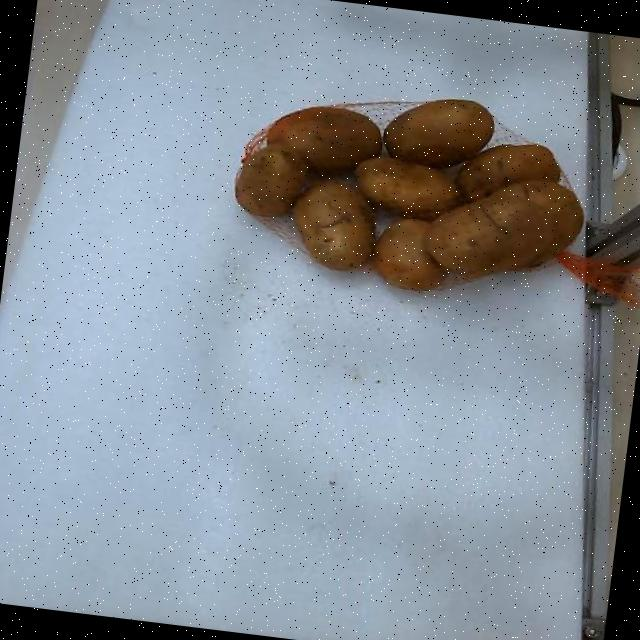potato: (426, 179, 582, 275), (266, 105, 382, 171), (383, 99, 493, 166), (294, 181, 374, 269), (356, 155, 460, 219), (455, 143, 559, 200), (234, 147, 308, 216), (373, 219, 444, 290)
